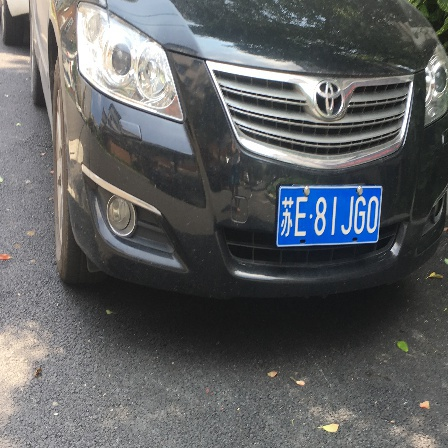plate: (276, 182, 385, 250)
